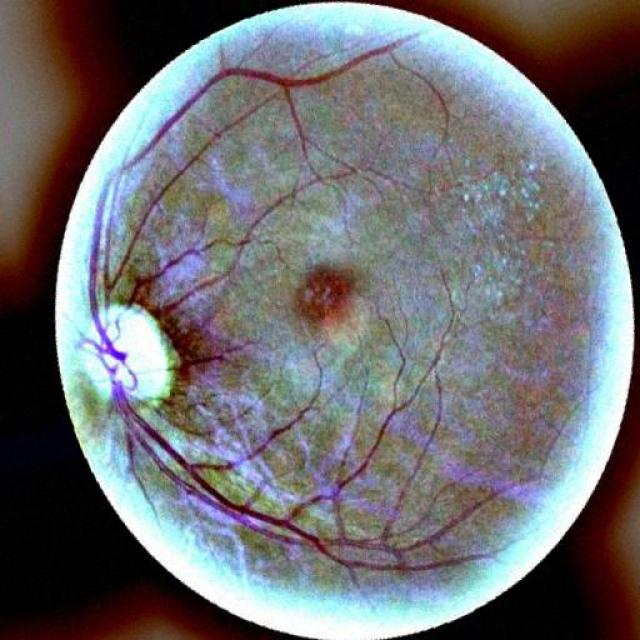Macula: (291, 255, 362, 325)
Nerves: (87, 48, 376, 364), (112, 366, 359, 570), (157, 168, 334, 323)
Optic Disk: (72, 304, 182, 411)
